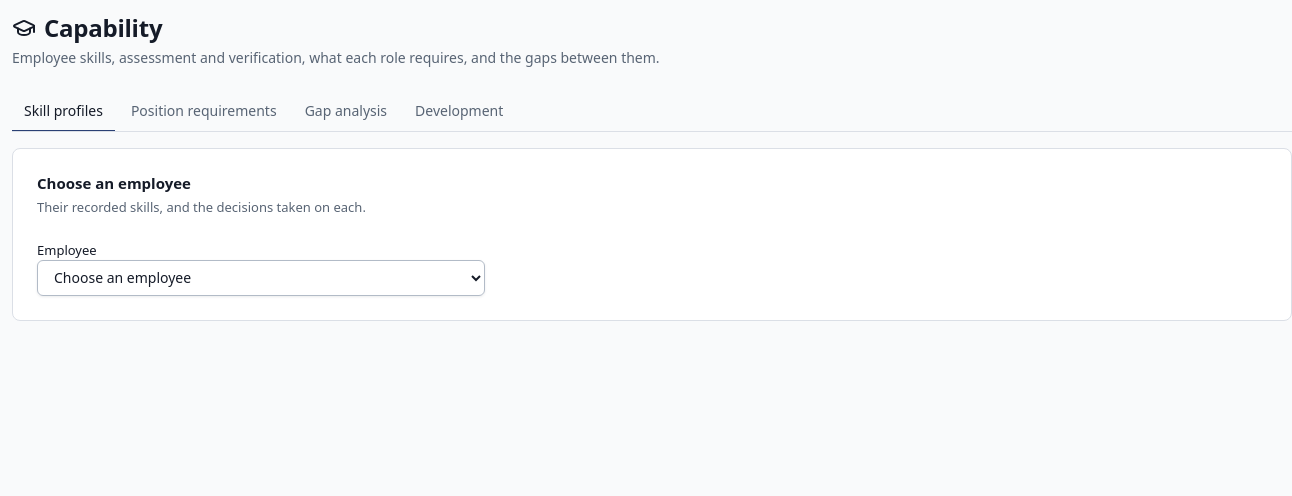
Capability workspace › separates an unverified claim from falling short, and never says the employee lacks the skill
This screenshot has width=1292, height=496.
Click the tab "Gap analysis" at (346, 112), box [293,92,399,132]
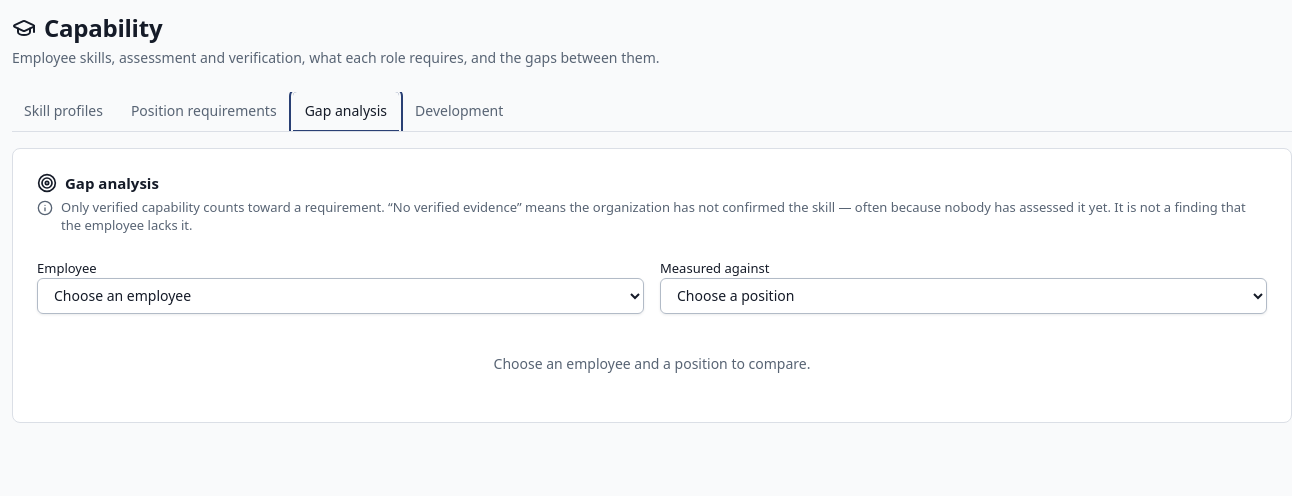
Select "Ama Mensah" in the dropdown with test id "select-gap-employee" at (340, 296), box [37,278,644,314]
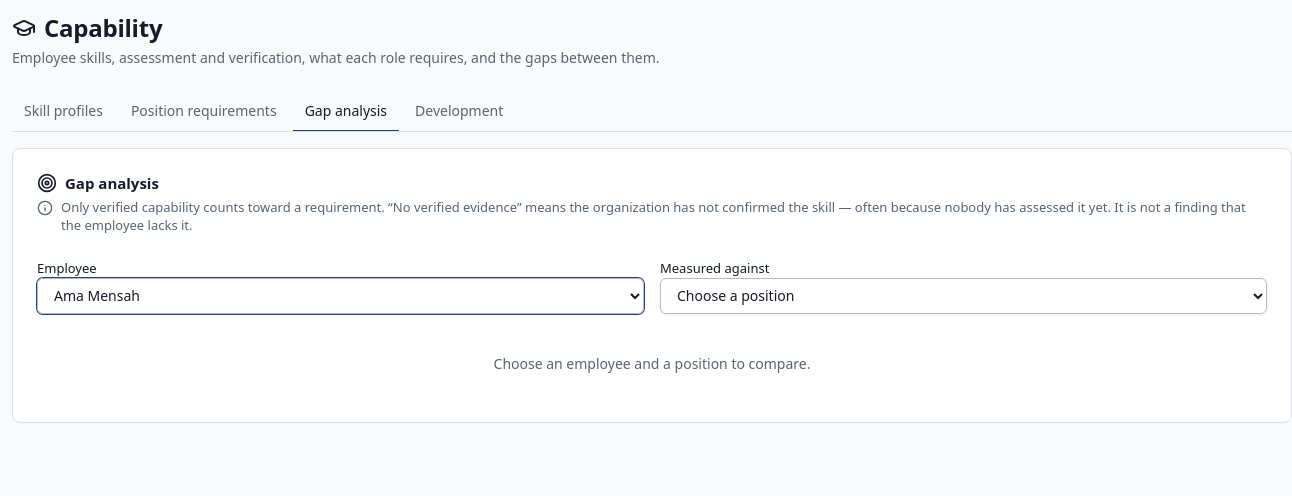
Select "Ward Sister" in the dropdown with test id "select-gap-position" at (964, 296), box [660,278,1267,314]
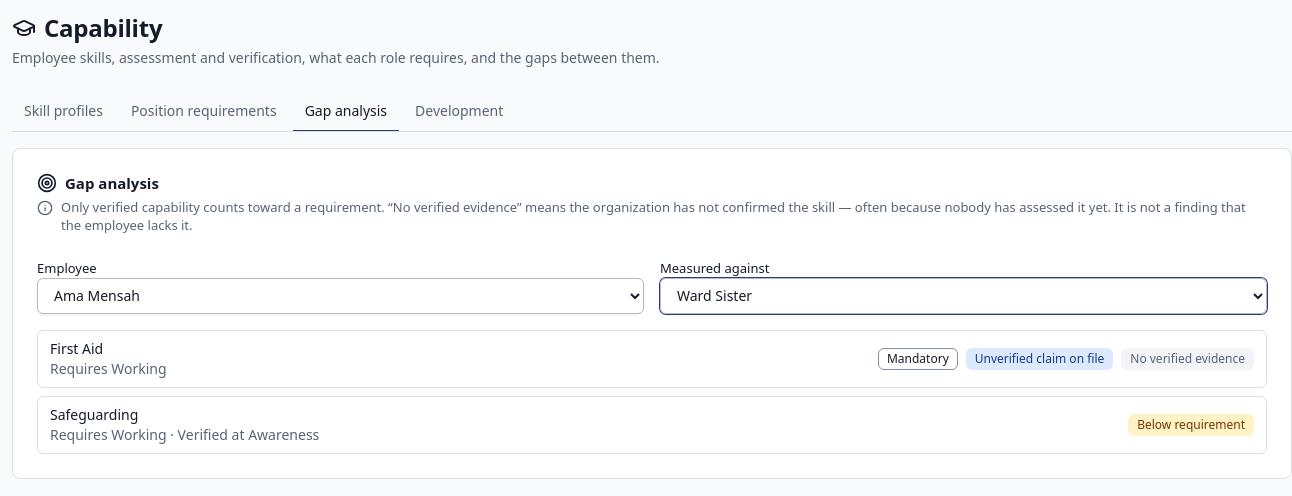
Check: the element with test id "row-gap-7" shows "No verified evidence", box [1130,350,1245,367]
Check: the text "Unverified claim on file" is shown, box [966,348,1113,370]
Check: the element with test id "row-gap-8" shows "Below requirement", box [1137,416,1245,433]
